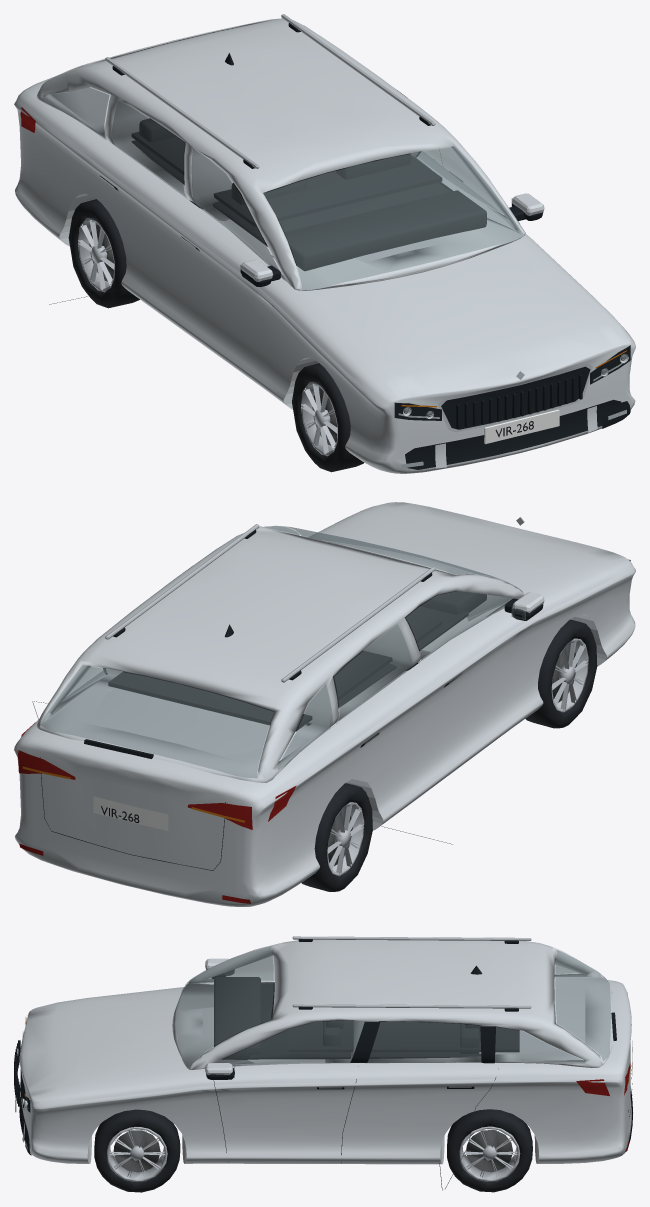
3 renders of one model, top to bottom at view 1: azimuth 30°, elevation 25°; view 2: azimuth 150°, elevation 25°; view 3: azimuth 270°, elevation 25°, orthographic. The views are drawn at different scales.
Parts seen in each view (by area): view 1: body, wheel_FL, wheel_RL; view 2: body, wheel_FL, wheel_RL; view 3: body, wheel_FR, wheel_RR.
Part boxes in pixels (box(x1,y1,x2,y2)): body: box(14, 14, 635, 473); wheel_FL: box(292, 363, 364, 472); wheel_RL: box(68, 199, 139, 308); body: box(14, 502, 635, 906); wheel_FL: box(525, 619, 597, 728); wheel_RL: box(301, 783, 372, 891); body: box(14, 936, 632, 1190); wheel_FR: box(94, 1109, 180, 1192); wheel_RR: box(447, 1109, 532, 1192).
Bounding box in the file's own units: 2.8 × 1.51 × 4.74.
